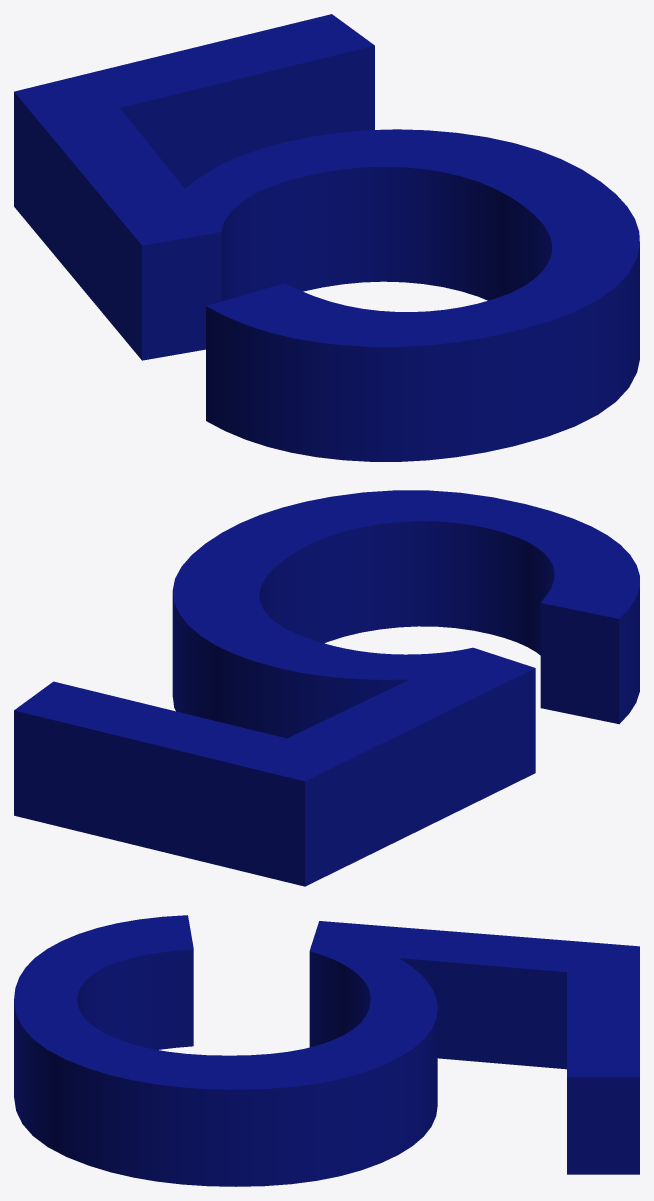
The picture shows the model from 3 angles, top to bottom: view 1: azimuth 30°, elevation 25°; view 2: azimuth 150°, elevation 25°; view 3: azimuth 270°, elevation 25°; orthographic projection. The views are drawn at different scales.
Parts seen in each view (by area): view 1: TextPlus072; view 2: TextPlus072; view 3: TextPlus072.
Part boxes in pixels (x1=…): TextPlus072: x1=14, y1=14, x2=639, y2=461; TextPlus072: x1=14, y1=490, x2=639, y2=886; TextPlus072: x1=14, y1=915, x2=639, y2=1186.
Bounding box in the file's own units: 17 × 4.41 × 25.76.
